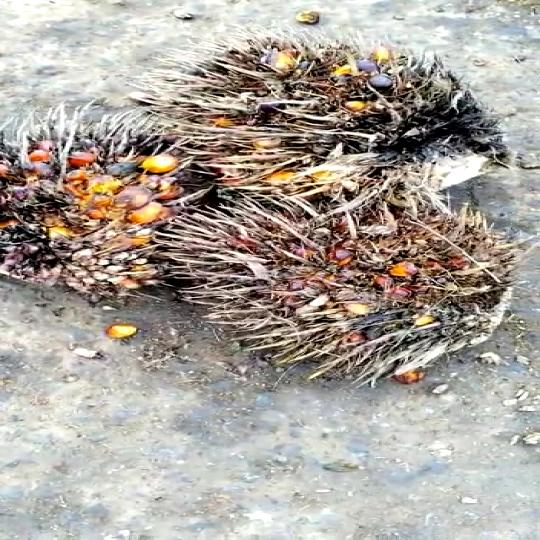terlalu masak: (150, 172, 522, 375), (140, 33, 524, 202), (0, 133, 205, 282)
